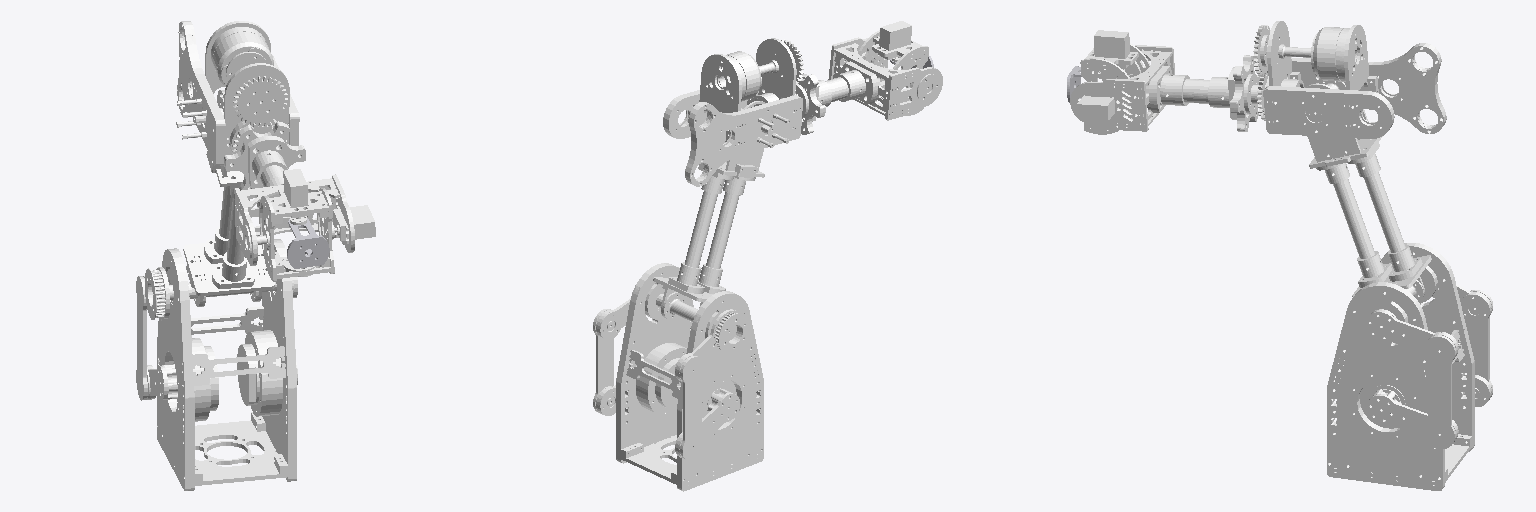
The robot description file, URDF, robot "Tiger_arm":
<?xml version="1.0" encoding="utf-8" ?>
<!-- This URDF was automatically created by SolidWorks to URDF Exporter! Originally created by [author] ([email redacted]) 
     Commit Version: 1.5.1-0-g916b5db  Build Version: 1.5.7152.31018
     For more information, please see http://wiki.ros.org/sw_urdf_exporter -->
<robot name="Tiger_arm">
    <link name="base">
        
<inertial>
            <origin xyz="2.54629609151788E-07 0.0662380069317921 -0.00124612656496132" rpy="0 0 0" />
            <mass value="47.6005101726764" />
            <inertia ixx="1.47320470339389" ixy="4.60333655660155E-09" ixz="5.94449931020951E-09" iyy="2.81285745050572" iyz="-4.79908141039344E-07" izz="1.47153611098612" />
        </inertial>

        <visual>
            <origin xyz="0 0 0" rpy="0 0 0" />
            <geometry>
                <mesh filename="package://Tiger_arm/meshes/base.STL" />
            </geometry>
            <material name="">
                <color rgba="1 1 1 1" />
            </material>
        </visual>
        <collision>
            <origin xyz="0 0 0" rpy="0 0 0" />
            <geometry>
                <mesh filename="package://Tiger_arm/meshes/base.STL" />
            </geometry>
        </collision>
    </link>
    <link name="shoulder_yaw">
        
<inertial>
            <origin xyz="-0.0053121072866571 -0.00128217968756816 0.110119141133242" rpy="0 0 0" />
            <mass value="1.45038674924772" />
            <inertia ixx="0.00422089433097854" ixy="-9.00654543341045E-07" ixz="-4.19750918096705E-05" iyy="0.00552395581650551" iyz="-8.28258512827932E-08" izz="0.00183113993385906" />
        </inertial>

        <visual>
            <origin xyz="0 0 0" rpy="0 0 0" />
            <geometry>
                <mesh filename="package://Tiger_arm/meshes/shoulder_yaw.STL" />
            </geometry>
            <material name="">
                <color rgba="1 1 1 1" />
            </material>
        </visual>
        <collision>
            <origin xyz="0 0 0" rpy="0 0 0" />
            <geometry>
                <mesh filename="package://Tiger_arm/meshes/shoulder_yaw.STL" />
            </geometry>
        </collision>
    </link>
    <joint name="shoulder_yaw" type="revolute">
        <origin xyz="0 0.14927 0.149" rpy="0 0 -1.8753" />
        <parent link="base" />
        <child link="shoulder_yaw" />
        <axis xyz="0 0 -1" />
        <limit lower="-3.0543261" upper="3.0543261" effort="100.0" velocity="40.0" />
        <safety_controller soft_upper_limit="3.0543261" soft_lower_limit="-3.0543261" k_position="100.0" k_velocity="40.0" />
    </joint>
    <link name="shoulder_pitch">
        
<inertial>
            <origin xyz="1.09616016263914E-09 0.131773540140463 0.00038377150693758" rpy="0 0 0" />
            <mass value="0.238295313985988" />
            <inertia ixx="0.0002148562191833" ixy="-9.6311987941255E-08" ixz="-1.17224790665464E-12" iyy="9.99752120065712E-05" iyz="8.02183120886886E-12" izz="0.000223267073431432" />
        </inertial>

        <visual>
            <origin xyz="0 0 0" rpy="0 0 0" />
            <geometry>
                <mesh filename="package://Tiger_arm/meshes/shoulder_pitch.STL" />
            </geometry>
            <material name="">
                <color rgba="1 1 1 1" />
            </material>
        </visual>
        <collision>
            <origin xyz="0 0 0" rpy="0 0 0" />
            <geometry>
                <mesh filename="package://Tiger_arm/meshes/shoulder_pitch.STL" />
            </geometry>
        </collision>
    </link>
    <joint name="shoulder_pitch" type="revolute">
        <origin xyz="0 0 0.2125" rpy="1.5708 0.34795 0" />
        <parent link="shoulder_yaw" />
        <child link="shoulder_pitch" />
        <axis xyz="0 0 -1" />
        <limit lower="-3.0543261" upper="3.0543261" effort="100.0" velocity="40.0" />
        <safety_controller soft_upper_limit="3.0543261" soft_lower_limit="-3.0543261" k_position="100.0" k_velocity="40.0" />
    </joint>
    <link name="Elbow">
        
<inertial>
            <origin xyz="-0.00262385307086366 0.0255044939613573 0.00298409658847223" rpy="0 0 0" />
            <mass value="0.650445956289885" />
            <inertia ixx="0.000395910111607093" ixy="4.81279358695777E-07" ixz="-5.53957348724011E-09" iyy="0.000806135658770104" iyz="1.37411049030121E-07" izz="0.000909170727184665" />
        </inertial>

        <visual>
            <origin xyz="0 0 0" rpy="0 0 0" />
            <geometry>
                <mesh filename="package://Tiger_arm/meshes/Elbow.STL" />
            </geometry>
            <material name="">
                <color rgba="1 1 1 1" />
            </material>
        </visual>
        <collision>
            <origin xyz="0 0 0" rpy="0 0 0" />
            <geometry>
                <mesh filename="package://Tiger_arm/meshes/Elbow.STL" />
            </geometry>
        </collision>
    </link>
    <joint name="Elbow" type="revolute">
        <origin xyz="0 0.28 0" rpy="0 0 0.26363" />
        <parent link="shoulder_pitch" />
        <child link="Elbow" />
        <axis xyz="0 0 1" />
        <limit lower="-3.0543261" upper="3.0543261" effort="100.0" velocity="40.0" />
        <safety_controller soft_upper_limit="3.0543261" soft_lower_limit="-3.0543261" k_position="100.0" k_velocity="40.0" />
    </joint>
    <link name="Wrist_roll">
        
<inertial>
            <origin xyz="4.17416057274522E-09 -0.00693348920369073 0.116850681679422" rpy="0 0 0" />
            <mass value="0.251980443777845" />
            <inertia ixx="0.000148656005221232" ixy="-1.00551199323999E-12" ixz="7.59661194094204E-09" iyy="0.00012343379259067" iyz="-3.57029809037319E-07" izz="0.000138610543332276" />
        </inertial>

        <visual>
            <origin xyz="0 0 0" rpy="0 0 0" />
            <geometry>
                <mesh filename="package://Tiger_arm/meshes/Wrist_roll.STL" />
            </geometry>
            <material name="">
                <color rgba="1 1 1 1" />
            </material>
        </visual>
        <collision>
            <origin xyz="0 0 0" rpy="0 0 0" />
            <geometry>
                <mesh filename="package://Tiger_arm/meshes/Wrist_roll.STL" />
            </geometry>
        </collision>
    </link>
    <joint name="Wrist_roll" type="revolute">
        <origin xyz="0.08 0 0" rpy="1.5708 -0.045373 1.5708" />
        <parent link="Elbow" />
        <child link="Wrist_roll" />
        <axis xyz="0 0 1" />
        <limit lower="-3.0543261" upper="3.0543261" effort="100.0" velocity="40.0" />
        <safety_controller soft_upper_limit="3.0543261" soft_lower_limit="-3.0543261" k_position="100.0" k_velocity="40.0" />
    </joint>
    <link name="Wrist_pitch">
        
<inertial>
            <origin xyz="0.00570853997150164 0.0133593077339031 6.93889390390723E-17" rpy="0 0 0" />
            <mass value="0.108713030832722" />
            <inertia ixx="4.29073724278947E-05" ixy="3.33970481676602E-07" ixz="6.7762635780344E-21" iyy="3.24960719415075E-05" iyz="-1.84759061619844E-20" izz="5.16194511029778E-05" />
        </inertial>

        <visual>
            <origin xyz="0 0 0" rpy="0 0 0" />
            <geometry>
                <mesh filename="package://Tiger_arm/meshes/Wrist_pitch.STL" />
            </geometry>
            <material name="">
                <color rgba="1 1 1 1" />
            </material>
        </visual>
        <collision>
            <origin xyz="0 0 0" rpy="0 0 0" />
            <geometry>
                <mesh filename="package://Tiger_arm/meshes/Wrist_pitch.STL" />
            </geometry>
        </collision>
    </link>
    <joint name="Wrist_pitch" type="revolute">
        <origin xyz="0 0 0.206" rpy="-1.5708 1.4864 3.1416" />
        <parent link="Wrist_roll" />
        <child link="Wrist_pitch" />
        <axis xyz="0 0 -1" />
        <limit lower="-3.0543261" upper="3.0543261" effort="100.0" velocity="40.0" />
        <safety_controller soft_upper_limit="3.0543261" soft_lower_limit="-3.0543261" k_position="100.0" k_velocity="40.0" />
    </joint>
    <link name="Wrist_yaw">
        
<inertial>
            <origin xyz="-2.51872257078789E-09 -0.00189759352082686 0.0292537071165866" rpy="0 0 0" />
            <mass value="0.0315216051343888" />
            <inertia ixx="1.53760460299136E-05" ixy="2.61970625254985E-11" ixz="2.54168599653161E-13" iyy="1.32298811803762E-05" iyz="2.07233484449597E-07" izz="1.00485757557239E-05" />
        </inertial>

        <visual>
            <origin xyz="0 0 0" rpy="0 0 0" />
            <geometry>
                <mesh filename="package://Tiger_arm/meshes/Wrist_yaw.STL" />
            </geometry>
            <material name="">
                <color rgba="0.866666666666667 0.866666666666667 0.890196078431372 1" />
            </material>
        </visual>
        <collision>
            <origin xyz="0 0 0" rpy="0 0 0" />
            <geometry>
                <mesh filename="package://Tiger_arm/meshes/Wrist_yaw.STL" />
            </geometry>
        </collision>
    </link>
    <joint name="Wrist_yaw" type="revolute">
        <origin xyz="0 0 0" rpy="-0.064776 -1.5382 0.066283" />
        <parent link="Wrist_pitch" />
        <child link="Wrist_yaw" />
        <axis xyz="0 -0.9979 -0.064731" />
        <limit lower="-3.0543261" upper="3.0543261" effort="100.0" velocity="40.0" />
        <safety_controller soft_upper_limit="3.0543261" soft_lower_limit="-3.0543261" k_position="100.0" k_velocity="40.0" />
    </joint>
    
<transmission name="trans_shoulder_yaw">
        <type>transmission_interface/SimpleTransmission</type>
        <joint name="shoulder_yaw">
            <hardwareInterface>hardware_interface/EffortJointInterface</hardwareInterface>
        </joint>
        <actuator name="shoulder_yaw_motor">
            <hardwareInterface>hardware_interface/EffortJointInterface</hardwareInterface>
            <mechanicalReduction>1</mechanicalReduction>
        </actuator>
    </transmission>
    <transmission name="trans_shoulder_pitch">
        <type>transmission_interface/SimpleTransmission</type>
        <joint name="shoulder_pitch">
            <hardwareInterface>hardware_interface/EffortJointInterface</hardwareInterface>
        </joint>
        <actuator name="shoulder_pitch_motor">
            <hardwareInterface>hardware_interface/EffortJointInterface</hardwareInterface>
            <mechanicalReduction>1</mechanicalReduction>
        </actuator>
    </transmission>
    <transmission name="trans_Elbow">
        <type>transmission_interface/SimpleTransmission</type>
        <joint name="Elbow">
            <hardwareInterface>hardware_interface/EffortJointInterface</hardwareInterface>
        </joint>
        <actuator name="Elbow_motor">
            <hardwareInterface>hardware_interface/EffortJointInterface</hardwareInterface>
            <mechanicalReduction>1</mechanicalReduction>
        </actuator>
    </transmission>
    <transmission name="trans_Wrist_roll">
        <type>transmission_interface/SimpleTransmission</type>
        <joint name="Wrist_roll">
            <hardwareInterface>hardware_interface/EffortJointInterface</hardwareInterface>
        </joint>
        <actuator name="Wrist_roll_motor">
            <hardwareInterface>hardware_interface/EffortJointInterface</hardwareInterface>
            <mechanicalReduction>1</mechanicalReduction>
        </actuator>
    </transmission>
    <transmission name="trans_Wrist_pitch">
        <type>transmission_interface/SimpleTransmission</type>
        <joint name="Wrist_pitch">
            <hardwareInterface>hardware_interface/EffortJointInterface</hardwareInterface>
        </joint>
        <actuator name="Wrist_pitch_motor">
            <hardwareInterface>hardware_interface/EffortJointInterface</hardwareInterface>
            <mechanicalReduction>1</mechanicalReduction>
        </actuator>
    </transmission>
    <transmission name="trans_Wrist_yaw">
        <type>transmission_interface/SimpleTransmission</type>
        <joint name="Wrist_yaw">
            <hardwareInterface>hardware_interface/EffortJointInterface</hardwareInterface>
        </joint>
        <actuator name="Wrist_yaw_motor">
            <hardwareInterface>hardware_interface/EffortJointInterface</hardwareInterface>
            <mechanicalReduction>1</mechanicalReduction>
        </actuator>
    </transmission>
    <gazebo>
        <plugin name="gazebo_ros_control" filename="libgazebo_ros_control.so">
            <robotNamespace>/</robotNamespace>
        </plugin>
    </gazebo>
</robot>

--- What the picture shows (computed from the rendered views, not written in the file) ---
Views: 3 orthographic renders of the robot side by side, from view 1: azimuth 30°, elevation 25°; view 2: azimuth 150°, elevation 25°; view 3: azimuth 270°, elevation 25°.
Model Tiger_arm with 7 links and 6 joints (6 revolute), rooted at base, posed every joint at zero.
Visible links, largest first — view 1: shoulder_yaw, Elbow, Wrist_roll, shoulder_pitch, Wrist_pitch, Wrist_yaw; view 2: shoulder_yaw, Elbow, Wrist_roll, shoulder_pitch, Wrist_pitch; view 3: shoulder_yaw, Elbow, Wrist_roll, shoulder_pitch, Wrist_pitch.
Link boxes in pixels (x1=…): shoulder_yaw: x1=136, y1=239, x2=297, y2=490; Elbow: x1=176, y1=21, x2=299, y2=165; Wrist_roll: x1=224, y1=121, x2=375, y2=265; shoulder_pitch: x1=183, y1=90, x2=274, y2=306; Wrist_pitch: x1=259, y1=169, x2=334, y2=281; Wrist_yaw: x1=287, y1=218, x2=329, y2=268; shoulder_yaw: x1=593, y1=263, x2=763, y2=491; Elbow: x1=663, y1=38, x2=803, y2=186; Wrist_roll: x1=796, y1=37, x2=942, y2=134; shoulder_pitch: x1=653, y1=100, x2=765, y2=318; Wrist_pitch: x1=858, y1=21, x2=928, y2=115; shoulder_yaw: x1=1327, y1=243, x2=1492, y2=490; Elbow: x1=1253, y1=21, x2=1446, y2=138; Wrist_roll: x1=1070, y1=45, x2=1260, y2=131; shoulder_pitch: x1=1305, y1=74, x2=1431, y2=298; Wrist_pitch: x1=1080, y1=30, x2=1150, y2=134.
Bounding box of the posed robot: 0.292 × 0.5267 × 0.5847 m (x, y, z).
Meshes: 7 distinct files referenced, 6 mesh visuals loaded (6 binary STL); not drawn: 1 (reference not matched to a file when rendering).